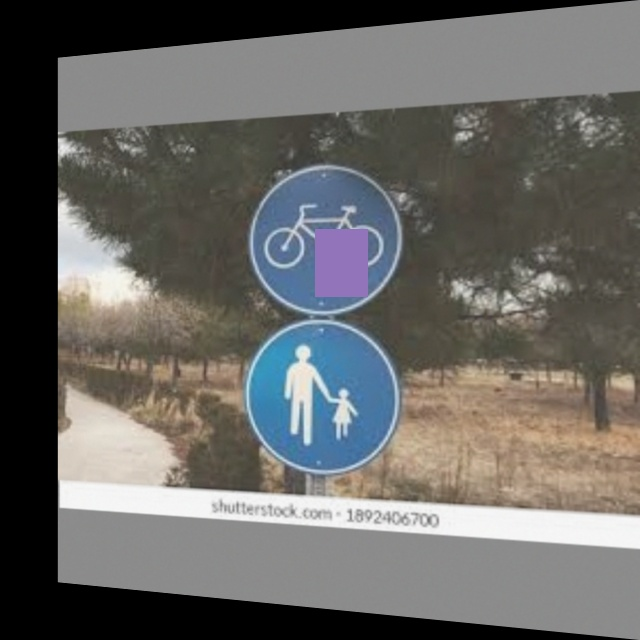Compulsory_Cycle_Track: (248, 161, 403, 312)
